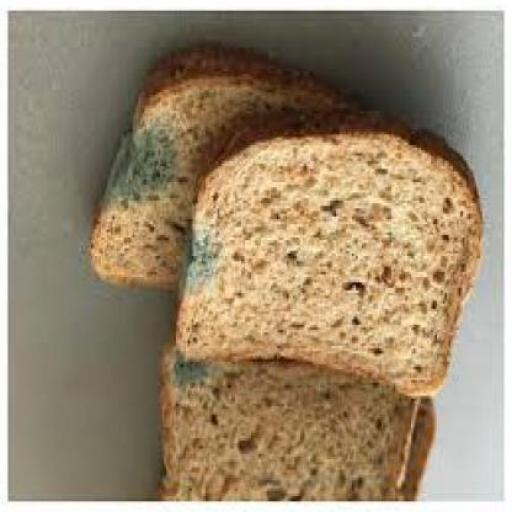biodegradable: (172, 121, 480, 402), (88, 52, 372, 296), (154, 338, 417, 504), (399, 398, 435, 504)
